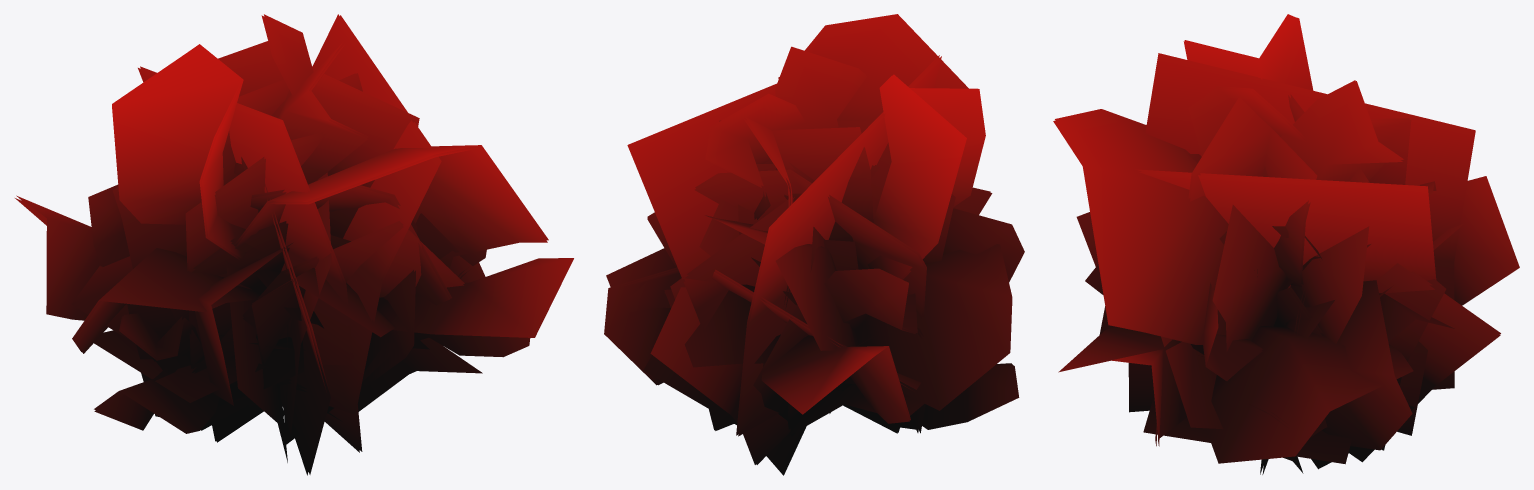
The model's file is Bush01_high.FBX.
3 renders of one model, left to right at view 1: azimuth 30°, elevation 25°; view 2: azimuth 150°, elevation 25°; view 3: azimuth 270°, elevation 25°, orthographic. The views are drawn at different scales.
Parts seen in each view (by area): view 1: Bush01_high; view 2: Bush01_high; view 3: Bush01_high.
Boxes of the visible parts, <box> form: Bush01_high: <box>15,14,573,475</box>; Bush01_high: <box>604,14,1024,475</box>; Bush01_high: <box>1053,14,1519,474</box>.
Bounding box in the file's own units: 0.6954 × 0.6678 × 0.6898.
